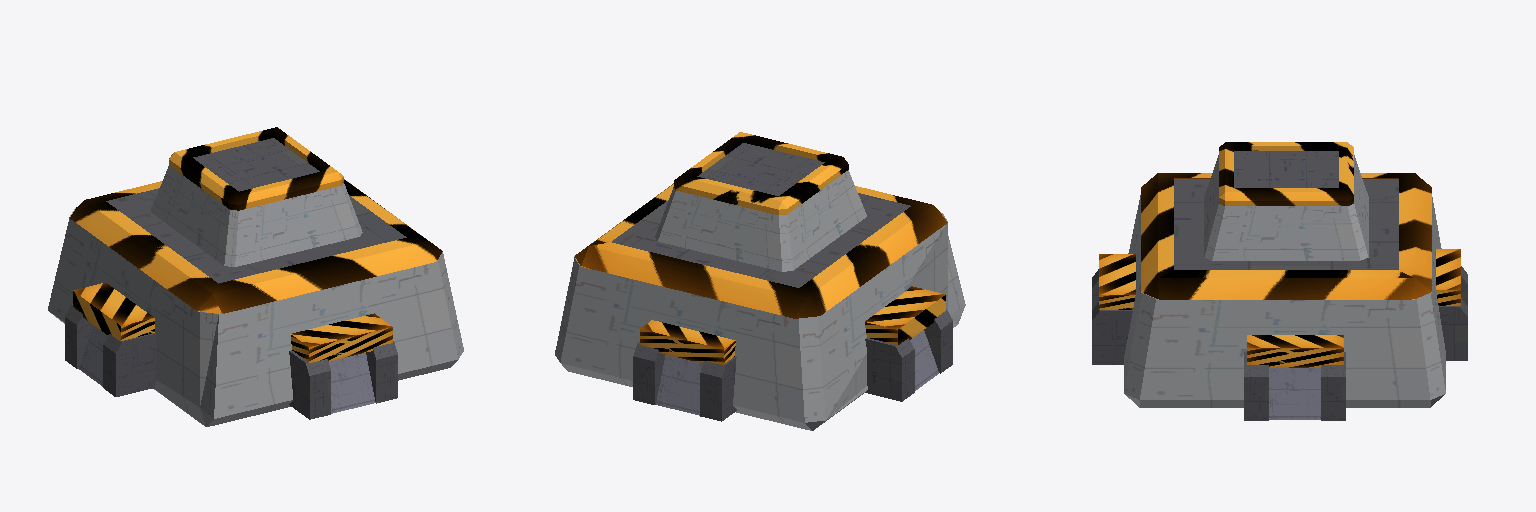
3 renders of one model, left to right at view 1: azimuth 30°, elevation 25°; view 2: azimuth 150°, elevation 25°; view 3: azimuth 270°, elevation 25°, orthographic.
Parts seen in each view (by area): view 1: Box002, Object002, Object001, Object004, Object003, Object005; view 2: Box002, Object002, Object001, Object004, Object003, Object005; view 3: Box002, Object002, Object001, Object004, Object003, Object005.
Boxes of the visible parts, <box> form: Box002: <box>48,165,463,426</box>; Object002: <box>70,127,442,313</box>; Object001: <box>106,138,406,283</box>; Object004: <box>65,304,397,419</box>; Object003: <box>73,282,392,362</box>; Object005: <box>79,326,375,413</box>; Box002: <box>555,170,965,430</box>; Object002: <box>575,132,947,318</box>; Object001: <box>612,143,910,287</box>; Object004: <box>633,309,952,421</box>; Object003: <box>640,286,945,364</box>; Object005: <box>656,330,938,415</box>; Box002: <box>1124,155,1445,407</box>; Object002: <box>1141,142,1431,299</box>; Object001: <box>1174,151,1398,269</box>; Object004: <box>1092,266,1467,420</box>; Object003: <box>1099,249,1460,367</box>; Object005: <box>1269,368,1320,419</box>.
Bounding box in the file's own units: 159 × 84.82 × 159.
Materials: 4 (4 with a texture image).